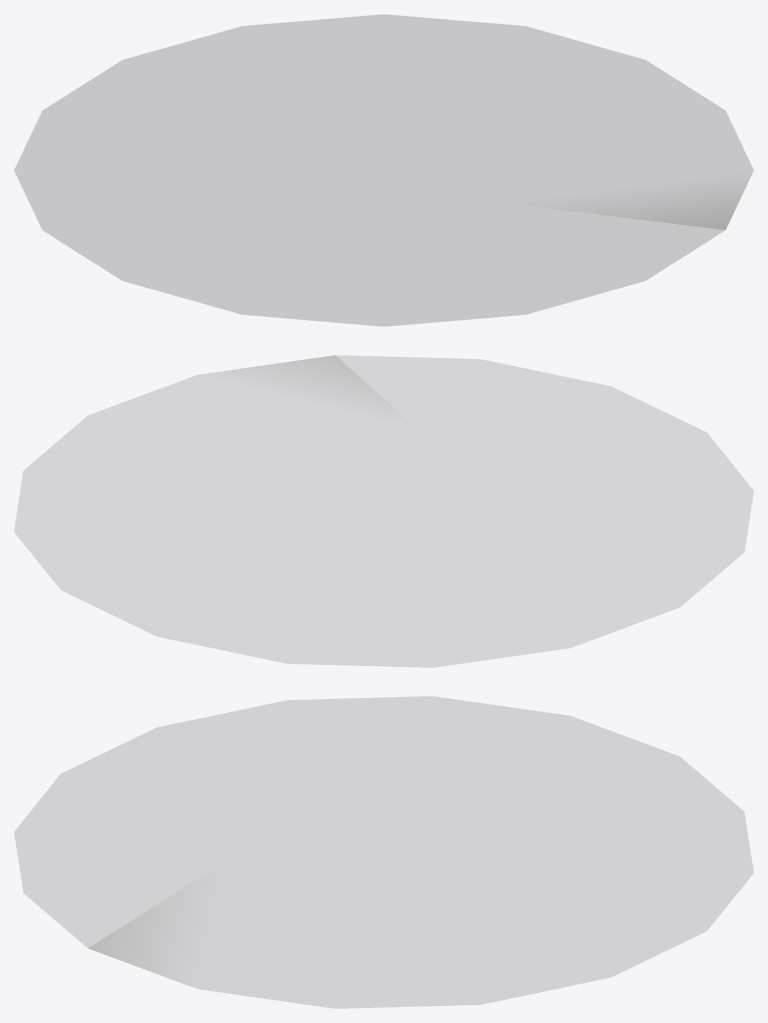
3 views of the same model, one above another, from view 1: azimuth 30°, elevation 25°; view 2: azimuth 150°, elevation 25°; view 3: azimuth 270°, elevation 25° (orthographic).
Parts seen in each view (by area): view 1: Joint_0_Object_0; view 2: Joint_0_Object_0; view 3: Joint_0_Object_0.
Boxes of the visible parts, x1,y1,x2,y2 form: Joint_0_Object_0: [14, 14, 753, 326]; Joint_0_Object_0: [14, 355, 753, 667]; Joint_0_Object_0: [14, 696, 753, 1008].
Bounding box in the file's own units: 247 × 5.08 × 247.
1 material, 1 textured.
